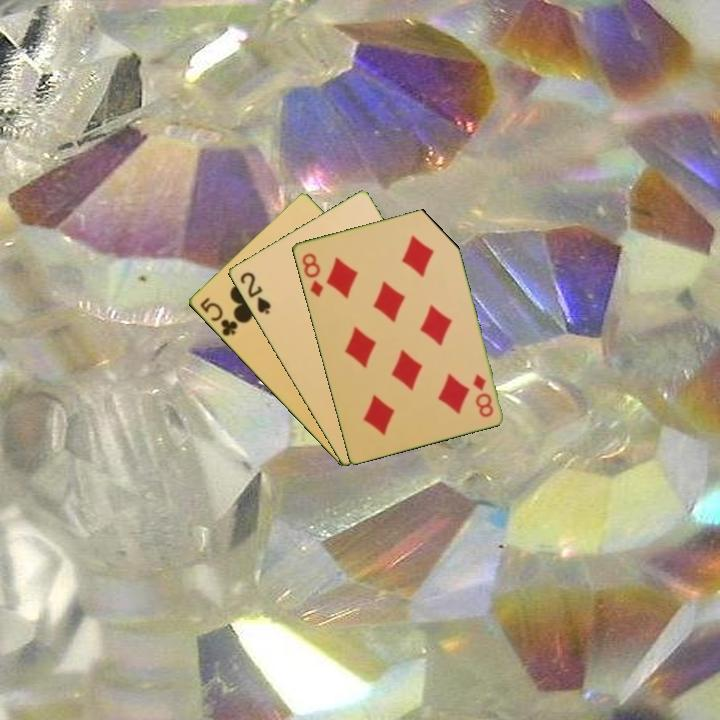2s: (236, 268, 274, 317)
5c: (196, 294, 241, 339)
8d: (298, 249, 326, 300), (469, 370, 496, 420)
